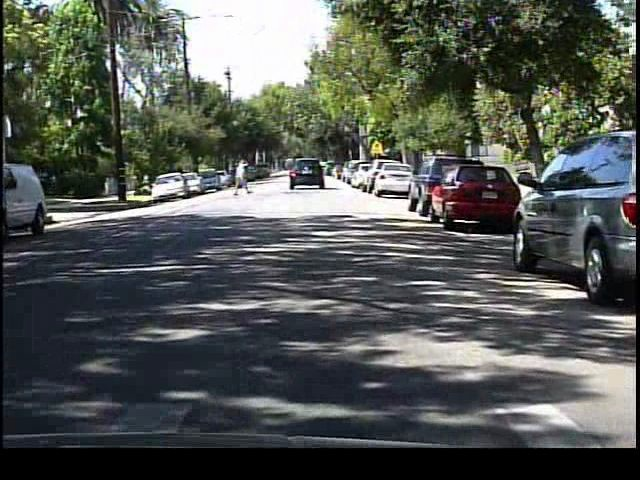person: (231, 156, 254, 200)
